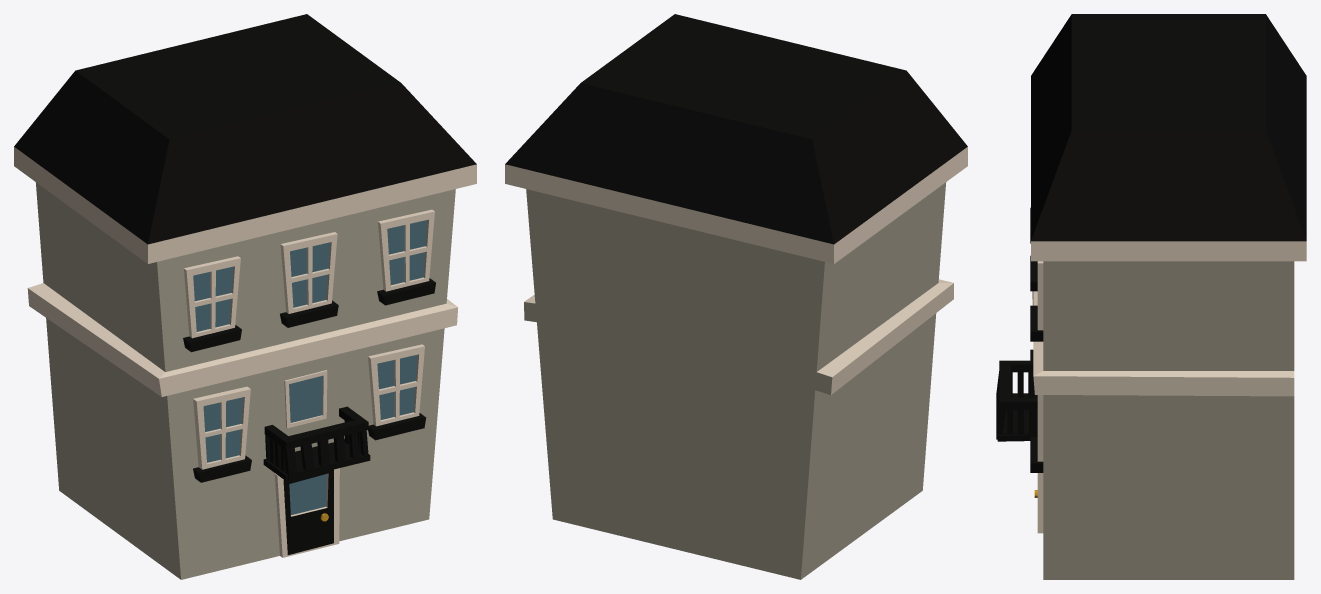
Rendered from house_005.glb.
The picture shows the model from 3 angles, left to right: view 1: azimuth 30°, elevation 25°; view 2: azimuth 150°, elevation 25°; view 3: azimuth 270°, elevation 25°; orthographic projection. The views are drawn at different scales.
Parts seen in each view (by area): view 1: Cube.061; view 2: Cube.061; view 3: Cube.061.
Boxes of the visible parts, bbox=[...] form: Cube.061: bbox=[14, 14, 476, 579]; Cube.061: bbox=[505, 14, 967, 579]; Cube.061: bbox=[996, 14, 1306, 579].
Size of the model in its own units: 2.65 by 3.31 by 2.1.
